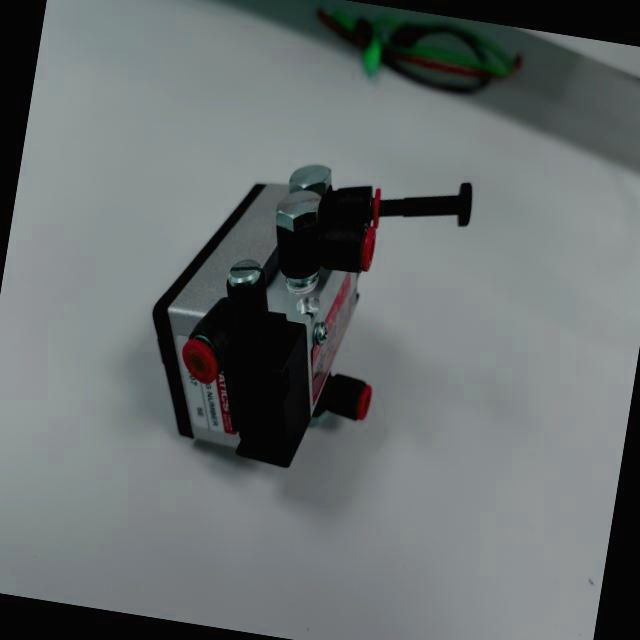5by2 DCV: (125, 129, 488, 504)
